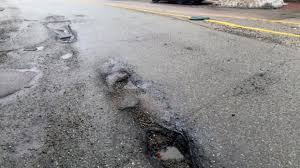pothole: (120, 119, 215, 168)
